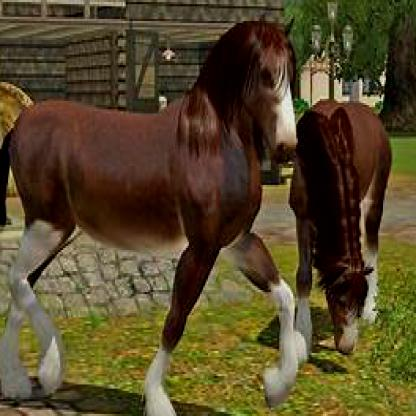horse: (0, 15, 303, 414), (290, 97, 394, 361)
